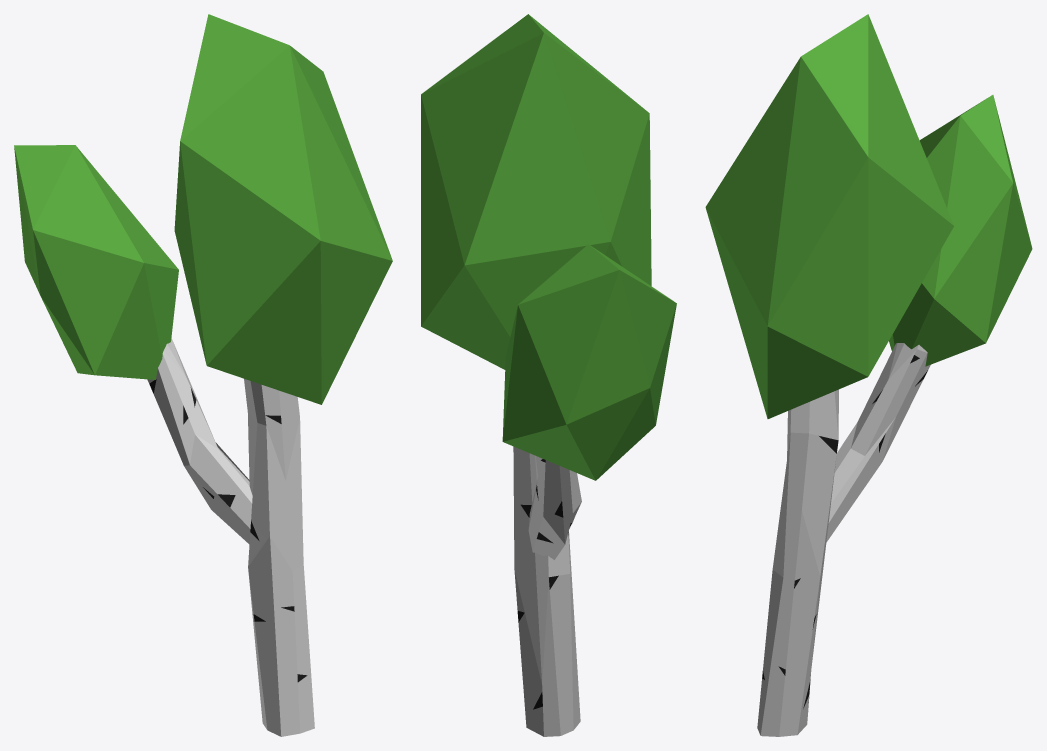
File: BirchTree2.fbx
3 renders of one model, left to right at view 1: azimuth 30°, elevation 25°; view 2: azimuth 150°, elevation 25°; view 3: azimuth 270°, elevation 25°, orthographic. The views are drawn at different scales.
Parts seen in each view (by area): view 1: pPlatonic7, pCube7; view 2: pPlatonic7, pCube7; view 3: pPlatonic7, pCube7.
Boxes of the visible parts, x1,y1,x2,y2 form: pPlatonic7: (14,14,392,404); pCube7: (147,338,314,736); pPlatonic7: (421,14,676,480); pCube7: (513,446,581,736); pPlatonic7: (705,14,1032,418); pCube7: (757,343,930,736).
Size of the model in its own units: 3.58 by 8.29 by 3.53.
